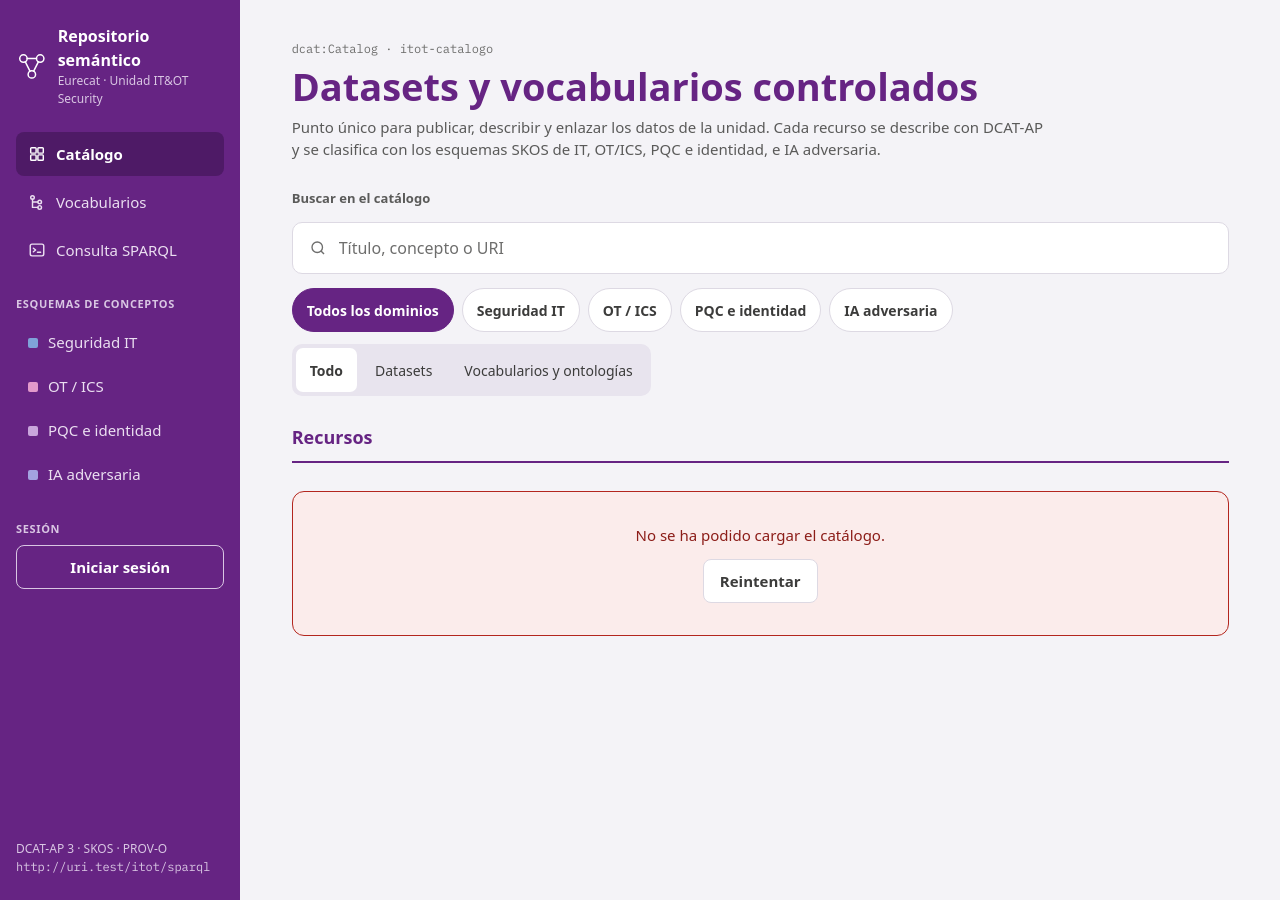
Test: Catálogo › muestra un error accesible y permite reintentar
expect the message shows "No se ha podido cargar el catálogo.": met, box left=636, top=525, right=885, bottom=545
Click the button "Reintentar". click: [760, 581]
box: left=703, top=559, right=818, bottom=603
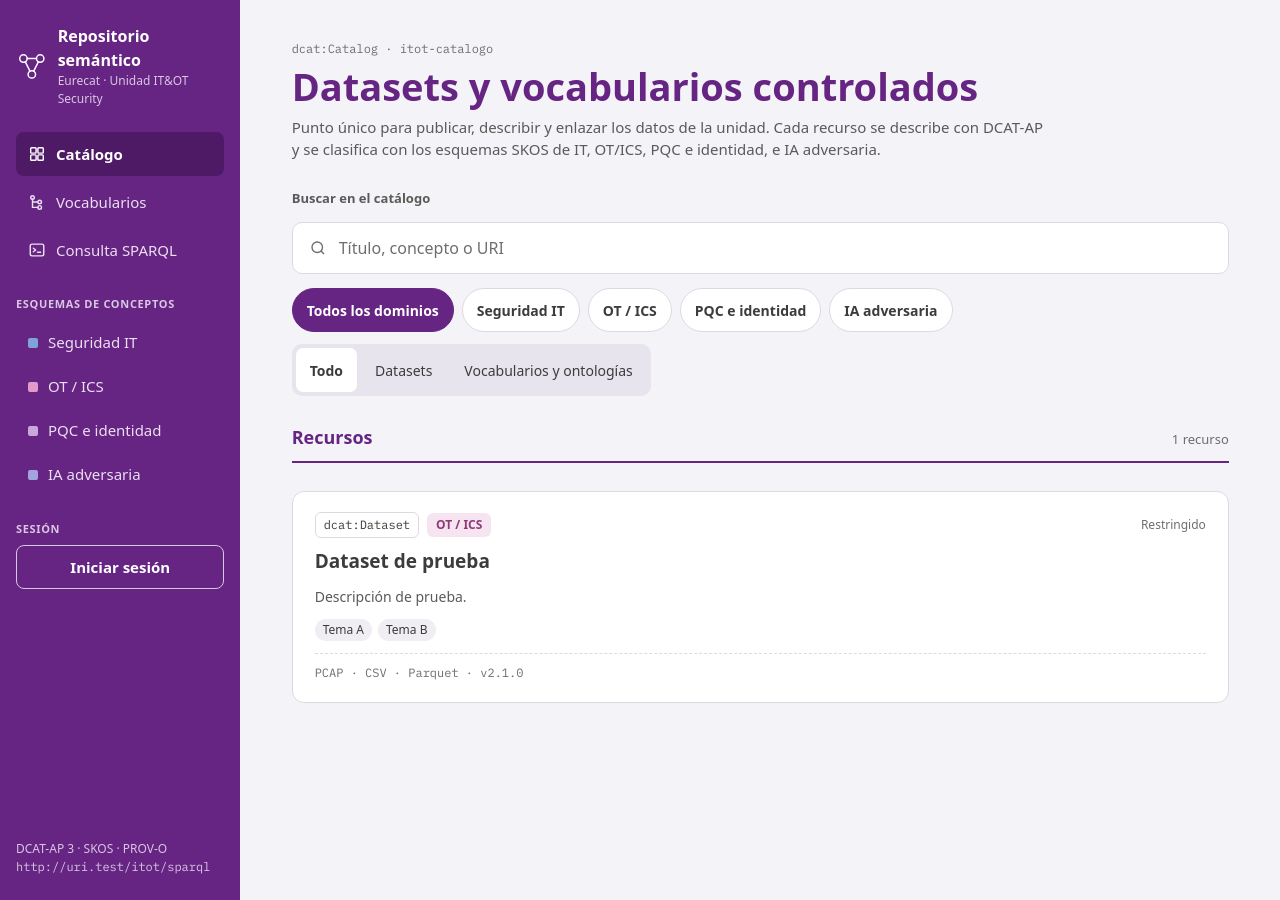
expect the link "Dataset de prueba" is shown: met, box left=315, top=548, right=490, bottom=574
expect the message "No se ha podido cargar el catálogo. Reintentar" is gone: met
